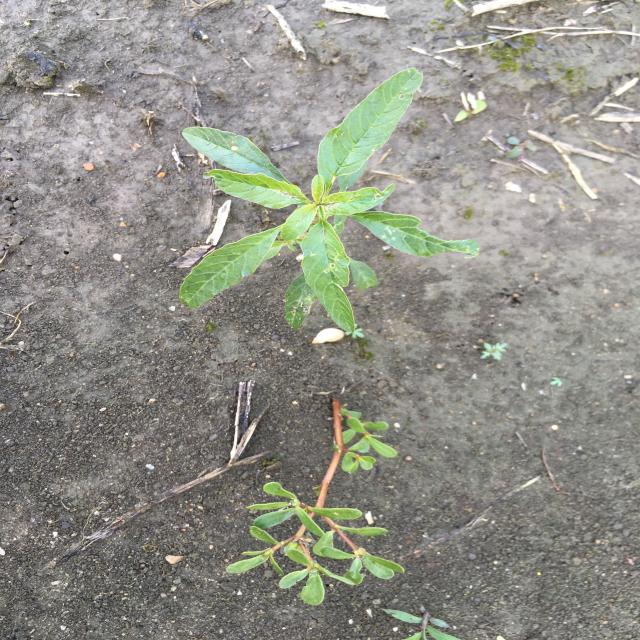Purslane: (222, 396, 407, 607)
Waterhemp: (176, 66, 482, 335)
